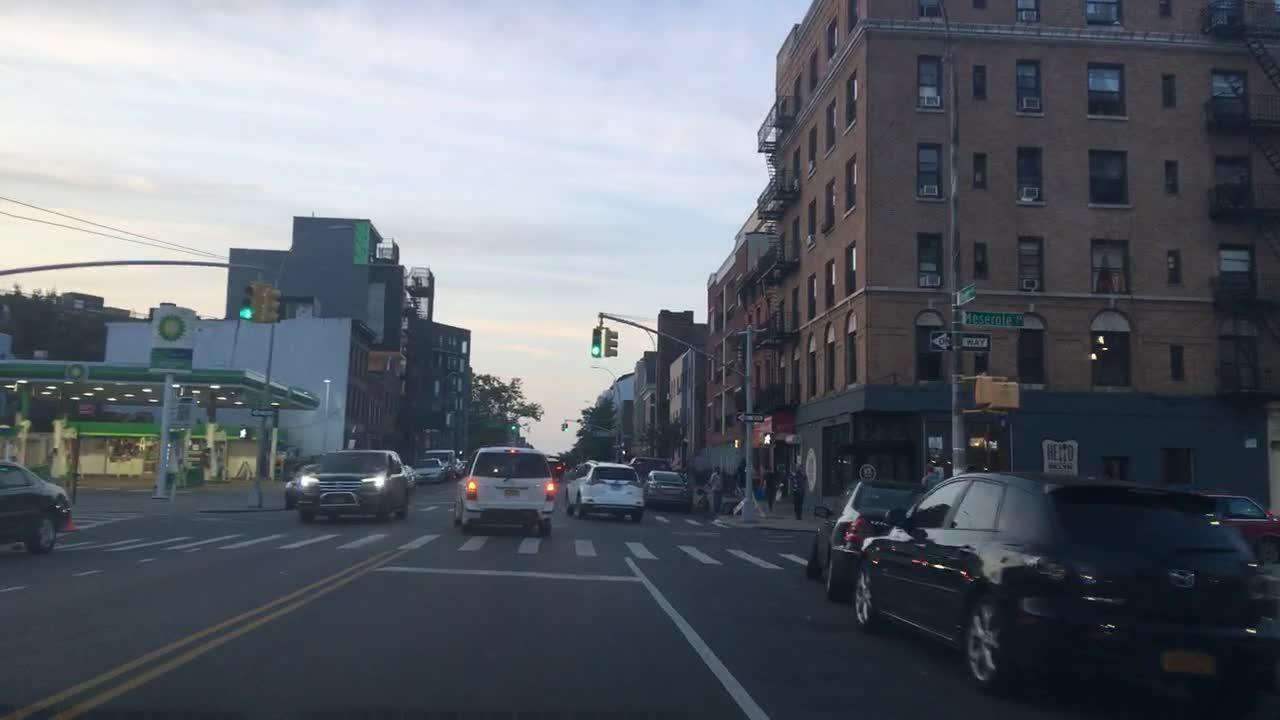Mazda: (1165, 557, 1204, 597)
